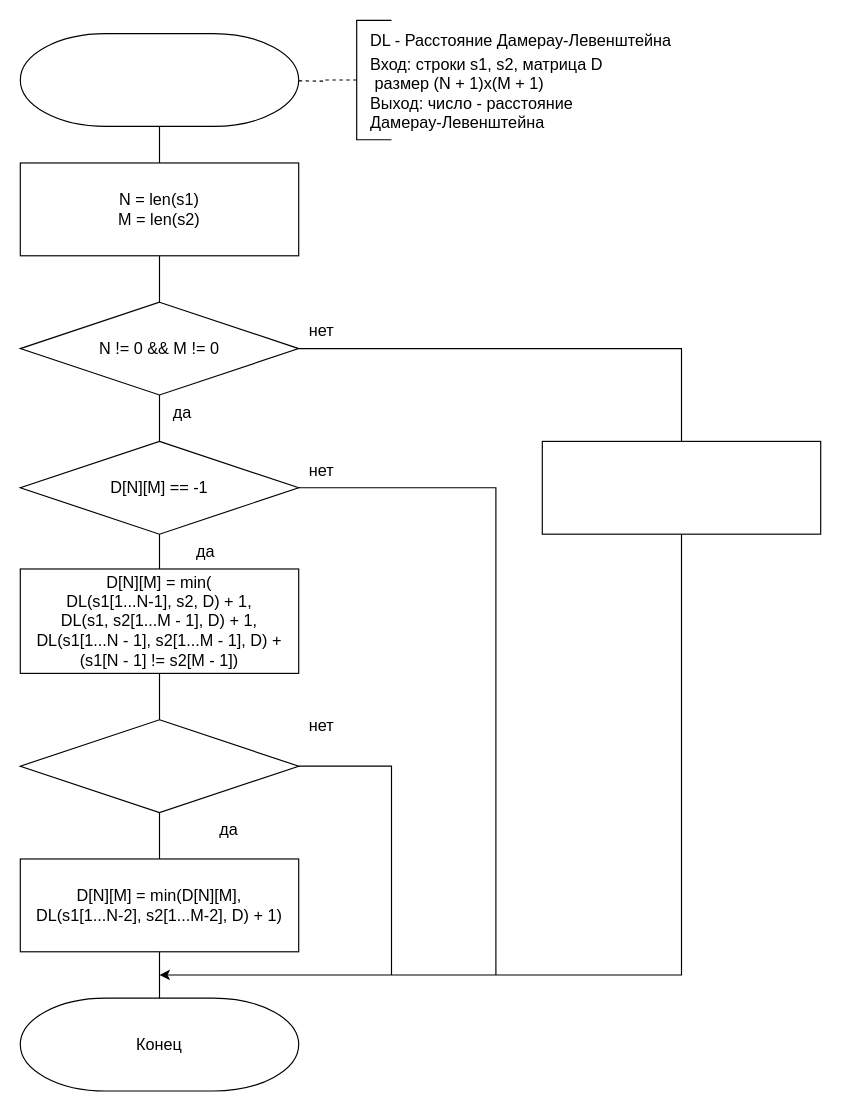
This 841x1111 diagram has some shape labels left out. The centre of each missing label's shape, as x and y in pixels:
"D[N][M] = max(N, M)" goes at [681,487].
"N > 1 && M > 1 && s1[N - 1] == s2[M - 2] && s1[N - 2] == s2[M - 1]" goes at [159,766].
"Начало" goes at [159,79].
